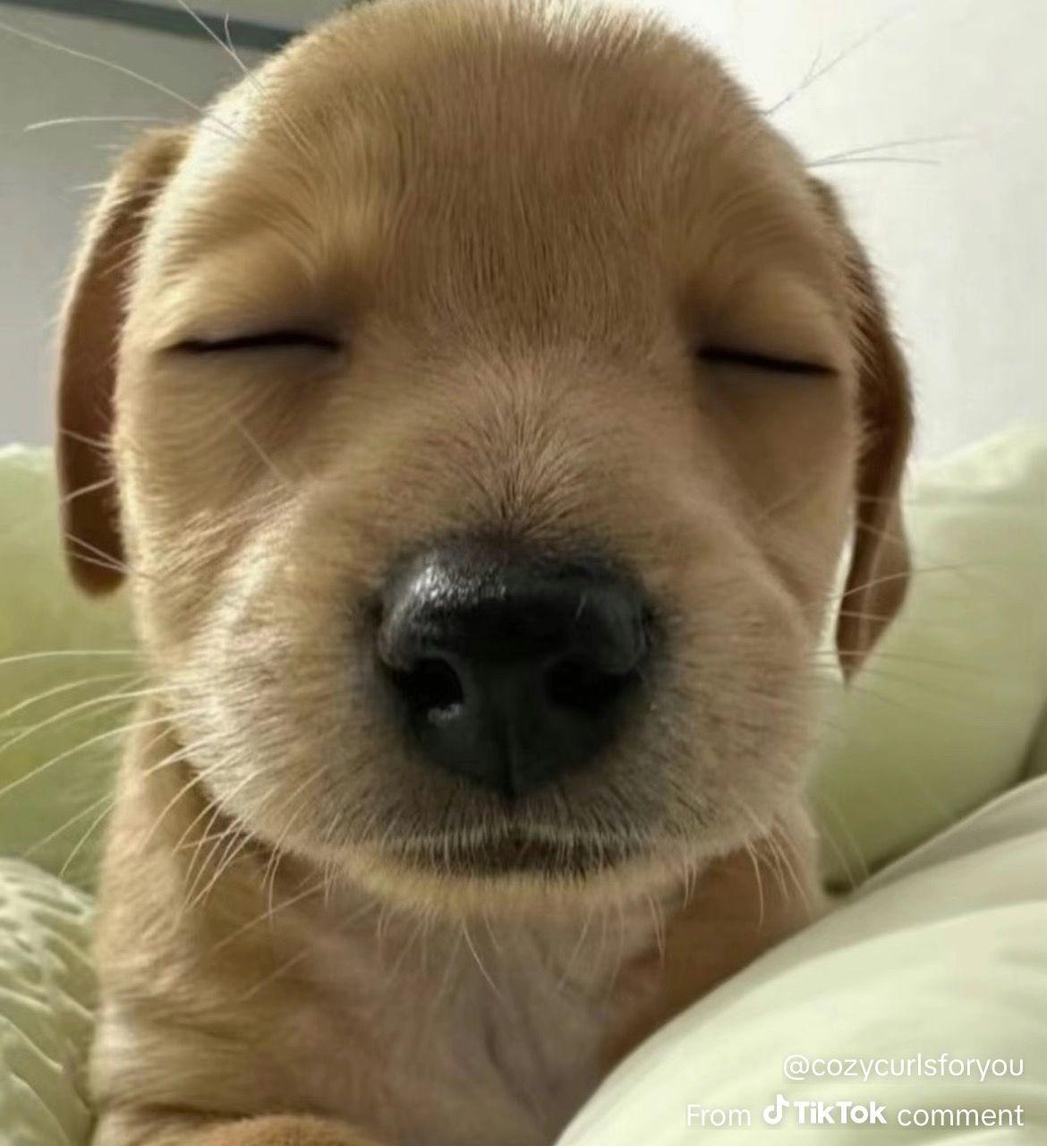puppy-dog: (43, 0, 917, 1146)
